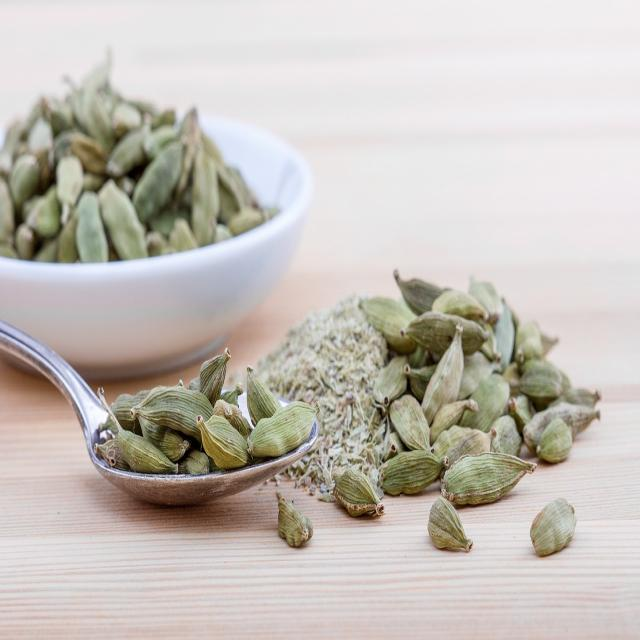Cardamom: (363, 239, 603, 556), (0, 40, 277, 258), (82, 350, 315, 475)
